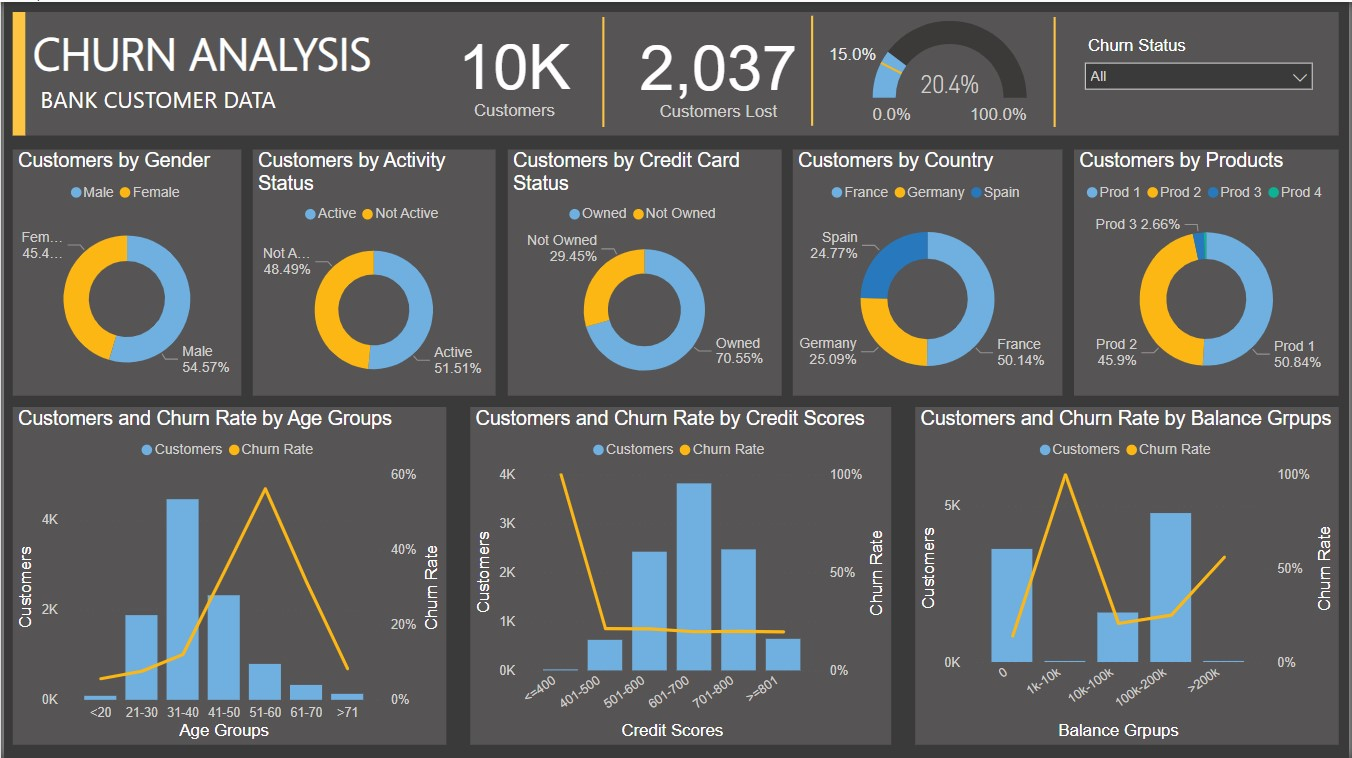

Layout of this report page (visuals, bound fields, positions):
{"tool":"powerbi","page":{"name":"DashBoard","canvas":[1280,720],"ordinal":0},"visuals":[{"type":"shape","box":[8.7,9.5,1262.7,117.8],"z":0},{"type":"card","fields":{"Values":["Dax Measures.Customers Lost"]},"box":[584.9,14.5,191.8,104.9],"z":1000},{"type":"donutChart","fields":{"Category":["Customer Data.Gender"],"Y":["Dax Measures.# Customers"]},"box":[8.3,140.4,217.8,234.4],"z":2000},{"type":"donutChart","fields":{"Y":["Dax Measures.# Customers"],"Category":["Customer Data.Activity Status"]},"box":[236.8,140.4,230.9,234.4],"z":3000},{"type":"donutChart","fields":{"Y":["Dax Measures.# Customers"],"Category":["Customer Data.Credit Card Status"]},"box":[479.6,140.4,260.6,234.4],"z":4000},{"type":"donutChart","fields":{"Y":["Dax Measures.# Customers"],"Category":["Customer Data.Country"]},"box":[750.9,140.4,257.1,234.4],"z":5000},{"type":"donutChart","fields":{"Y":["Dax Measures.# Customers"],"Category":["Customer Data.Products"]},"box":[1018.7,140.4,252.3,234.4],"z":6000},{"type":"lineStackedColumnComboChart","fields":{"Y":["Dax Measures.Customers"],"Y2":["Dax Measures.Churn Rate"],"Category":["Age Groups.Age Groups"]},"box":[8.3,385.6,413,321.3],"z":7000},{"type":"lineStackedColumnComboChart","fields":{"Y":["Dax Measures.Customers"],"Y2":["Dax Measures.Churn Rate"],"Category":["Credit Score Groups.Credit Scores"]},"box":[443.9,385.6,401.1,321.3],"z":8000},{"type":"lineStackedColumnComboChart","fields":{"Y":["Dax Measures.Customers"],"Y2":["Dax Measures.Churn Rate"],"Category":["Balance Groups.Balance Grpups"]},"box":[867.6,385.6,403.4,321.3],"z":9000},{"type":"slicer","fields":{"Values":["Customer Data.Churn Status"]},"box":[1019.1,27.7,237.6,80.8],"z":10000},{"type":"gauge","fields":{"Y":["Dax Measures.Churn Rate"],"MinValue":["Min(Customer Data.% Min Churn Rate)"],"MaxValue":["Max(Customer Data.% Max Churn Rate)"],"TargetValue":["Max(Customer Data.% Target Churn Rate)"]},"box":[753.8,13.3,249.6,111],"z":11000},{"type":"card","fields":{"Values":["Dax Measures.Customers"]},"box":[402.8,13.3,167.6,104.9],"z":12000},{"type":"textbox","box":[22.6,13.1,360.6,72.6],"z":13000},{"type":"textbox","box":[29.8,72.6,313,45.2],"z":14000},{"type":"shape","box":[981.8,14.3,36.9,104.7],"z":14001},{"type":"shape","box":[750.9,13.1,36.9,104.7],"z":14002},{"type":"shape","box":[552.2,14.3,36.9,104.7],"z":14003},{"type":"shape","box":[0,9.5,28.6,117.8],"z":14004}]}

Visuals, with their boxes in screenshot pixels (x1, y1, x2, y2), scaled from the page's 1280x720 canvas onto the 1352x758 screenshot:
shape: box(9, 10, 1343, 134)
card - Dax Measures.Customers Lost: box(618, 15, 820, 126)
donutChart - Customer Data.Gender x Dax Measures.# Customers: box(9, 148, 239, 395)
donutChart - Dax Measures.# Customers x Customer Data.Activity Status: box(250, 148, 494, 395)
donutChart - Dax Measures.# Customers x Customer Data.Credit Card Status: box(507, 148, 782, 395)
donutChart - Dax Measures.# Customers x Customer Data.Country: box(793, 148, 1065, 395)
donutChart - Dax Measures.# Customers x Customer Data.Products: box(1076, 148, 1342, 395)
lineStackedColumnComboChart - Dax Measures.Customers x Dax Measures.Churn Rate: box(9, 406, 445, 744)
lineStackedColumnComboChart - Dax Measures.Customers x Dax Measures.Churn Rate: box(469, 406, 893, 744)
lineStackedColumnComboChart - Dax Measures.Customers x Dax Measures.Churn Rate: box(916, 406, 1342, 744)
slicer - Customer Data.Churn Status: box(1076, 29, 1327, 114)
gauge - Dax Measures.Churn Rate x Min(Customer Data.% Min Churn Rate): box(796, 14, 1060, 131)
card - Dax Measures.Customers: box(425, 14, 602, 124)
textbox: box(24, 14, 405, 90)
textbox: box(31, 76, 362, 124)
shape: box(1037, 15, 1076, 125)
shape: box(793, 14, 832, 124)
shape: box(583, 15, 622, 125)
shape: box(0, 10, 30, 134)
